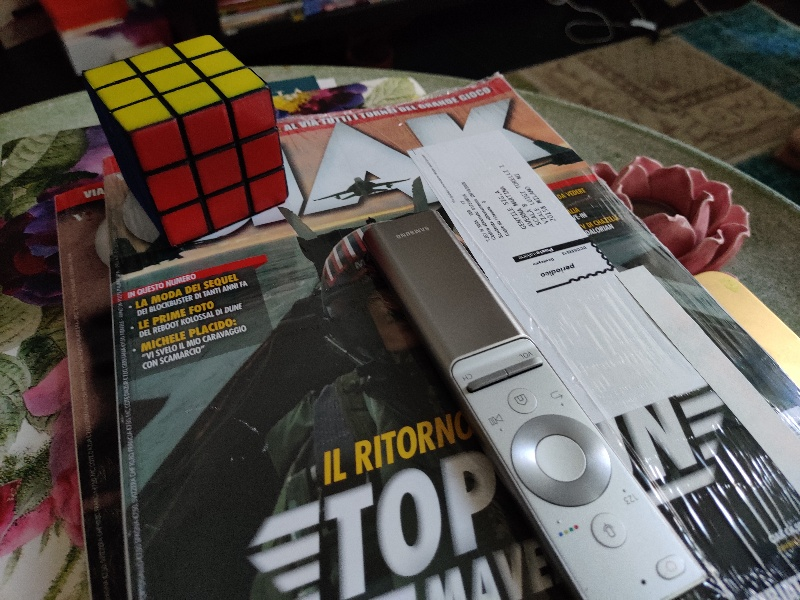rubik: (84, 34, 289, 251)
